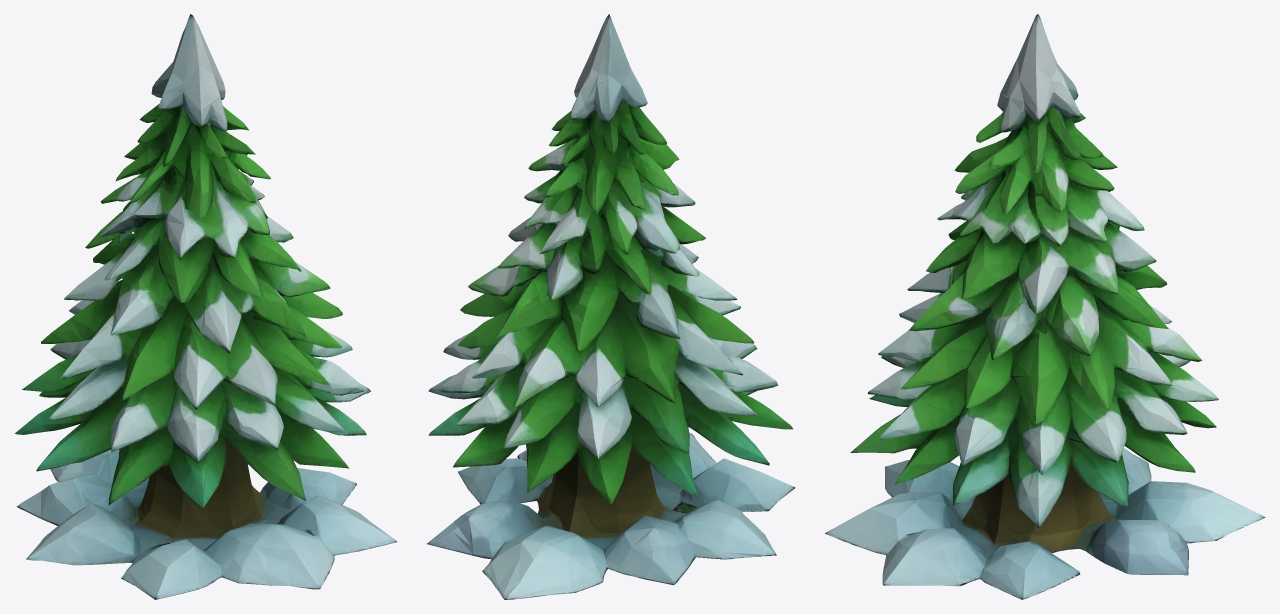
The model's file is pine_tree.glb.
The picture shows the model from 3 angles, left to right: view 1: azimuth 30°, elevation 25°; view 2: azimuth 150°, elevation 25°; view 3: azimuth 270°, elevation 25°; orthographic projection.
Parts seen in each view (by area): view 1: world; view 2: world; view 3: world.
Boxes of the visible parts, x1,y1,x2,y2 form: world: (14, 14, 396, 599); world: (427, 14, 795, 599); world: (825, 14, 1265, 599).
Bounding box in the file's own units: 0.7223 × 1 × 0.7882.
Materials: 1 (1 with a texture image).
